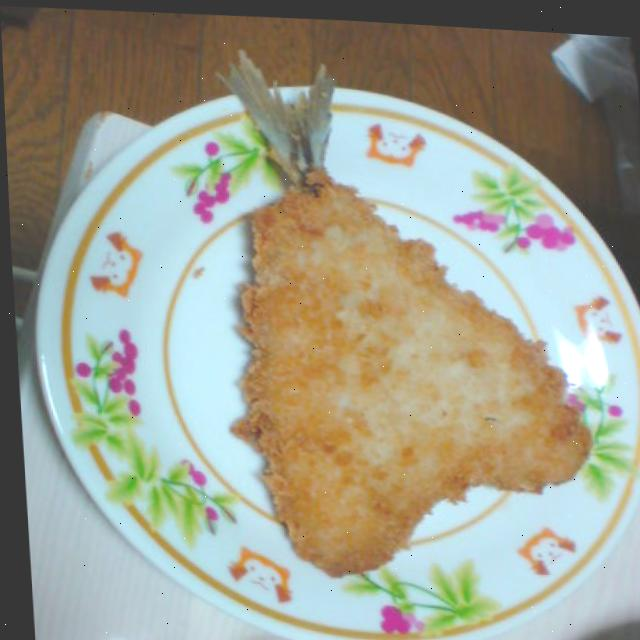炸货点心: (175, 48, 603, 640)
熟制海鲜: (175, 48, 603, 640)
